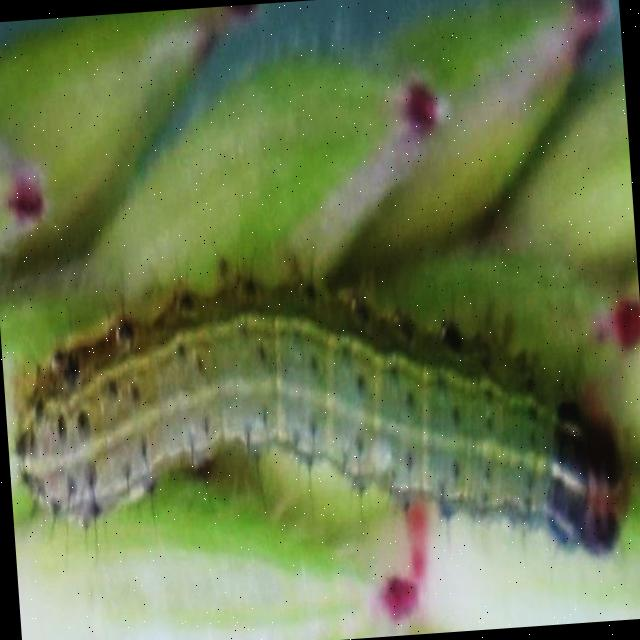worm: (4, 259, 638, 602)
